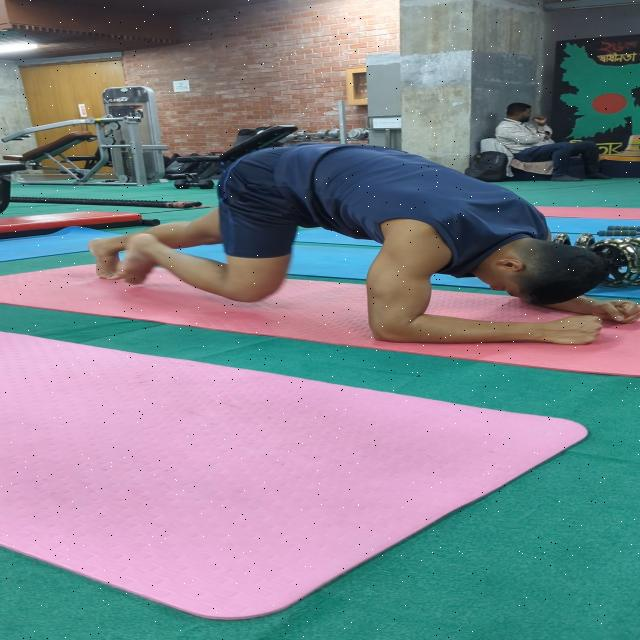Normal_MountainClimbers: (65, 130, 640, 360)
